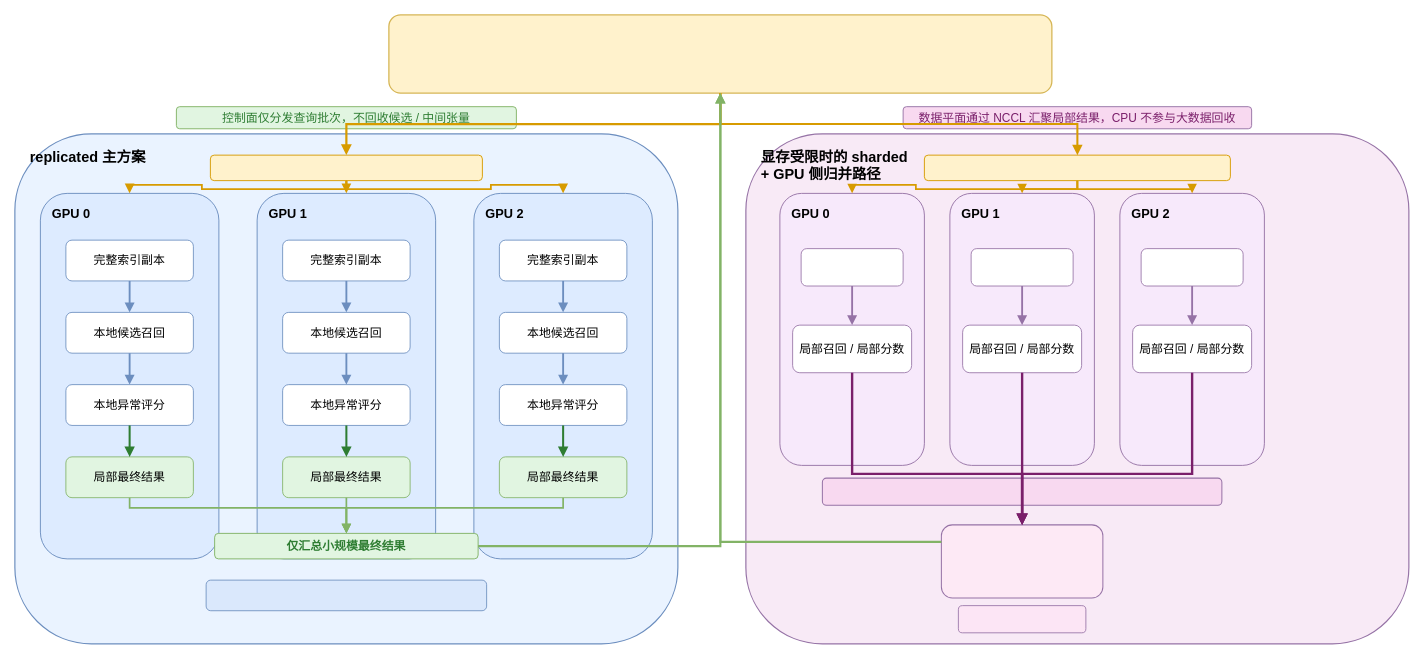
Image size: 1425x660. Some labels were removed from this diagram. Here are the shapes that lost their labels. From the top down, the centre of each, then its label:
point 720,53: CPU 控制面 请求队列 / 动态批次 / 负载感知分发 仅分发任务与回收小规模最终结果
point 346,167: 查询 / 微批分发
point 1077,167: 查询广播 / 局部分片执行
point 851,267: 分片索引 0
point 1021,267: 分片索引 1
point 1191,267: 分片索引 2
point 1021,491: NCCL 数据平面汇聚
point 1021,561: Merge GPU / Root Rank GPU 侧归并 + 最终评分
point 346,595: 每张 GPU 独立完成本地闭环
point 1022,619: 仅在索引无法完整复制时启用
